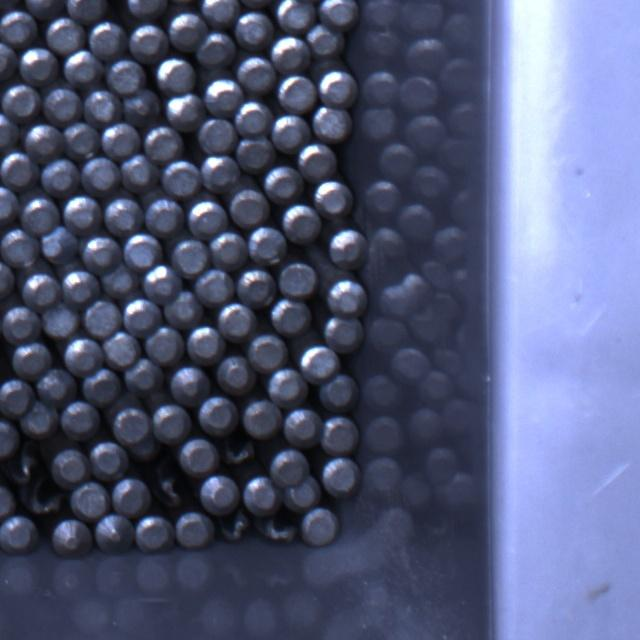tool: (297, 342, 339, 382), (51, 516, 91, 558), (152, 402, 192, 443), (198, 395, 238, 436), (60, 400, 101, 440), (200, 473, 240, 514), (21, 122, 62, 162), (169, 364, 210, 404), (81, 234, 122, 274), (246, 333, 288, 372), (329, 227, 368, 269), (242, 398, 282, 438), (70, 480, 110, 520), (64, 336, 104, 376), (187, 197, 227, 237), (93, 514, 133, 554), (19, 194, 59, 234), (268, 367, 308, 407), (17, 46, 57, 86), (236, 266, 276, 306), (281, 202, 321, 242), (18, 400, 58, 440), (312, 178, 352, 218), (216, 353, 255, 394), (178, 436, 219, 475), (242, 474, 281, 515), (122, 356, 163, 395), (154, 54, 196, 92), (165, 90, 207, 128), (277, 72, 317, 111), (1, 304, 40, 344), (0, 151, 39, 191), (62, 193, 101, 233), (103, 195, 143, 234), (121, 154, 161, 193), (146, 196, 185, 236), (322, 456, 361, 496), (228, 189, 268, 228), (297, 142, 337, 181), (318, 67, 358, 106), (200, 153, 240, 192), (143, 264, 182, 304), (38, 366, 79, 404), (327, 280, 368, 318), (0, 228, 39, 267), (83, 299, 122, 338), (174, 509, 213, 548), (247, 225, 286, 264), (41, 157, 81, 195), (46, 17, 86, 55), (122, 295, 162, 333), (160, 159, 200, 197), (283, 407, 321, 447), (112, 476, 150, 516), (271, 296, 311, 334), (102, 122, 142, 160), (268, 446, 308, 484), (90, 439, 128, 479), (19, 271, 59, 309), (44, 84, 84, 122), (65, 49, 105, 87), (318, 374, 358, 412), (204, 78, 244, 116), (9, 341, 50, 378), (324, 316, 365, 353), (208, 230, 246, 269), (270, 112, 308, 151), (1, 83, 40, 121), (89, 19, 127, 58), (112, 406, 150, 445), (134, 514, 173, 552), (40, 225, 78, 264), (146, 325, 184, 364), (128, 23, 166, 62), (85, 88, 124, 126), (216, 302, 255, 340), (82, 156, 121, 194), (187, 326, 226, 364), (83, 367, 122, 405), (143, 124, 182, 162), (170, 237, 209, 275), (237, 56, 276, 94), (42, 303, 82, 340), (278, 261, 318, 298), (168, 11, 205, 51), (312, 104, 352, 141), (194, 268, 234, 305), (0, 514, 37, 554), (0, 9, 38, 47), (322, 414, 360, 452), (63, 121, 101, 159), (235, 10, 273, 48), (124, 231, 163, 268), (264, 163, 303, 200), (237, 136, 277, 172), (103, 263, 143, 299), (302, 508, 339, 546), (102, 332, 140, 369), (270, 35, 308, 72), (51, 447, 88, 485), (197, 118, 235, 155), (62, 268, 100, 305), (106, 57, 145, 93), (232, 102, 271, 138), (167, 290, 206, 326), (284, 476, 322, 512), (122, 89, 160, 125), (305, 23, 343, 58), (197, 34, 236, 68), (0, 376, 32, 416), (319, 0, 360, 29), (201, 0, 234, 31), (66, 0, 109, 20), (0, 112, 20, 151), (0, 418, 19, 459), (0, 186, 19, 227), (23, 0, 65, 17), (128, 0, 163, 20), (0, 42, 17, 81), (0, 260, 16, 300), (0, 480, 16, 520)
tool_b: (21, 480, 65, 517), (152, 471, 191, 510), (258, 514, 300, 546), (273, 0, 315, 30), (215, 510, 251, 544), (7, 450, 42, 484), (222, 437, 258, 469)
